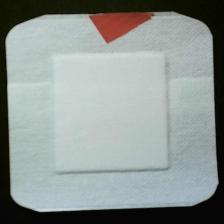Dressing: (5, 15, 222, 214)
Red_T: (82, 10, 157, 48)
